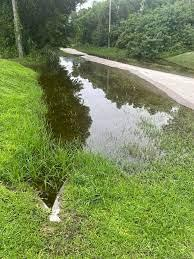Stagnant water: (21, 16, 171, 195)
